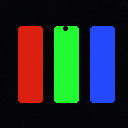0 point: (63, 26, 67, 30)
